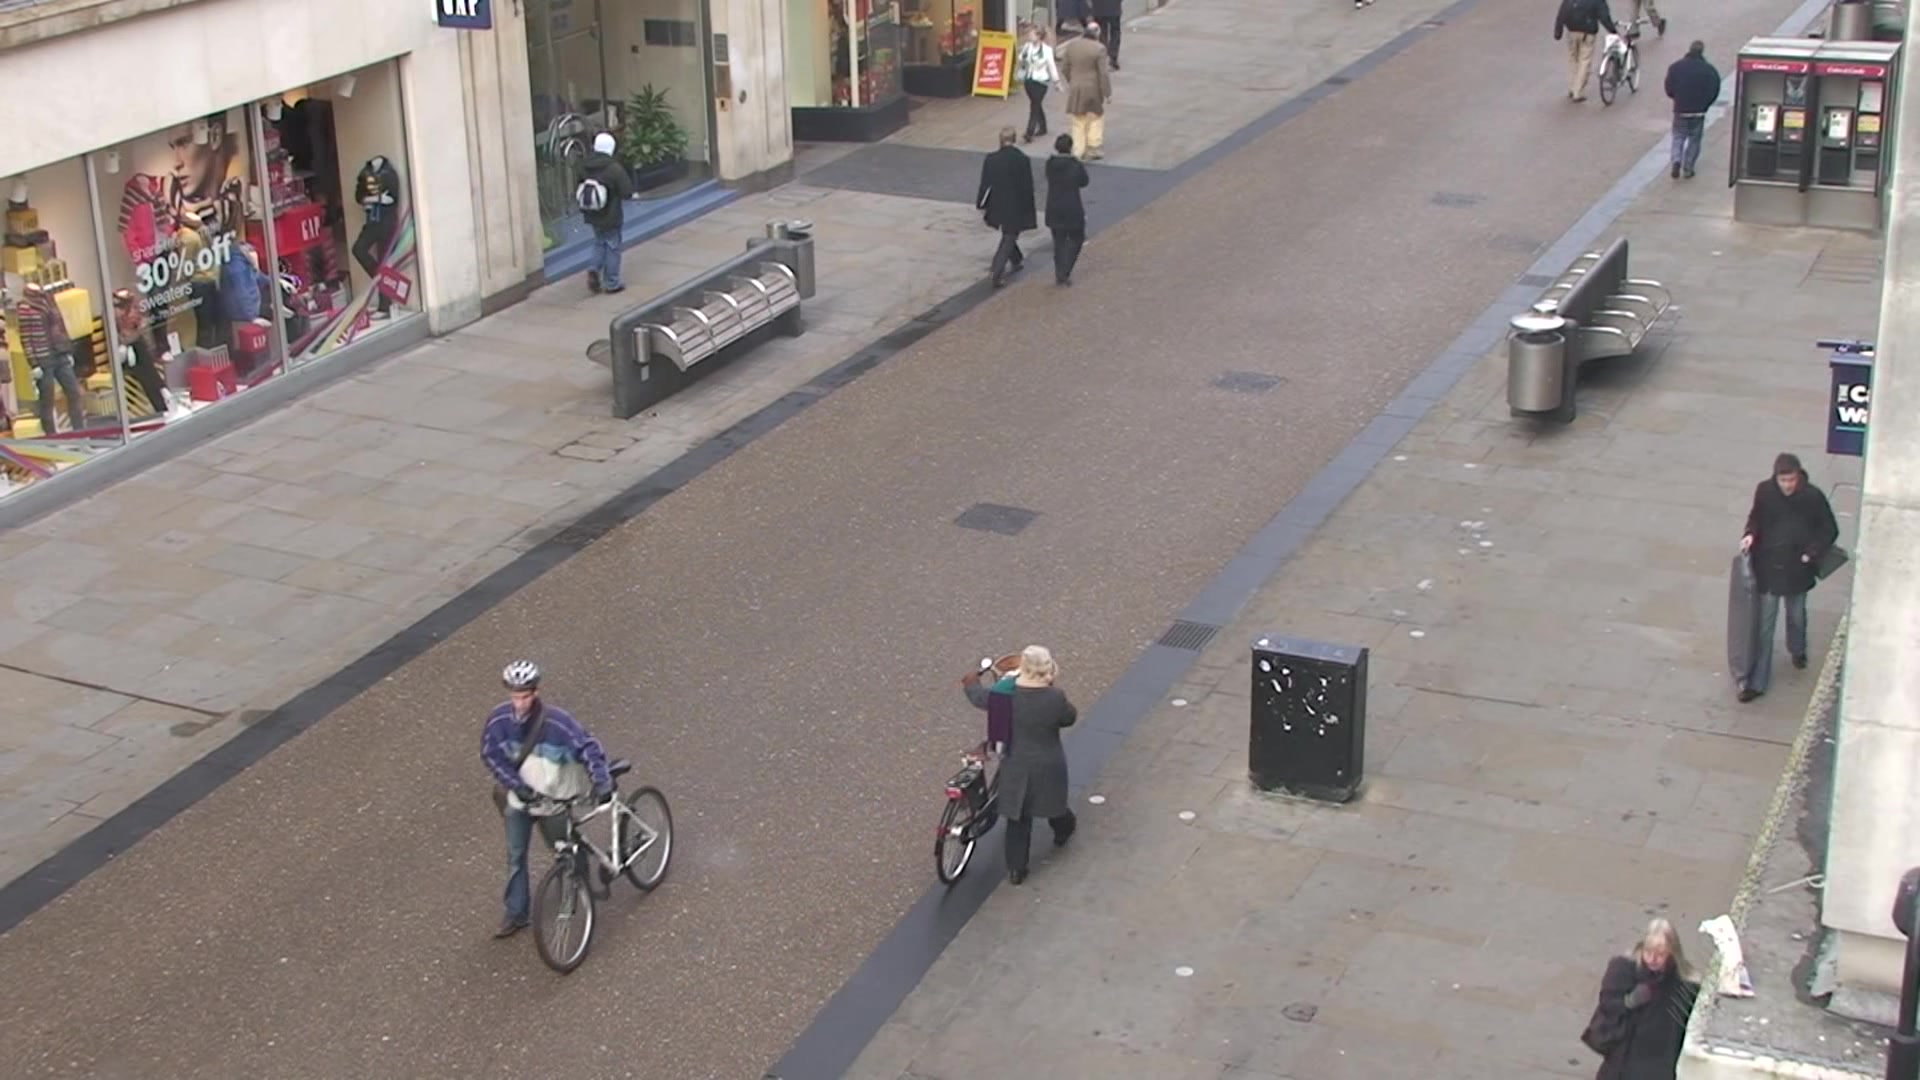person: (478, 657, 614, 943), (963, 644, 1080, 889), (1736, 453, 1848, 707), (574, 131, 639, 298), (973, 126, 1039, 292), (1056, 22, 1114, 161), (1665, 42, 1721, 183), (1042, 133, 1089, 290), (1014, 21, 1064, 144)
